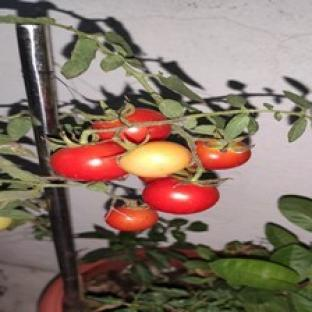Tomato: (51, 143, 126, 181), (143, 177, 220, 214), (119, 141, 192, 178), (197, 141, 250, 169), (105, 207, 158, 231), (120, 124, 171, 143), (0, 216, 12, 231)
